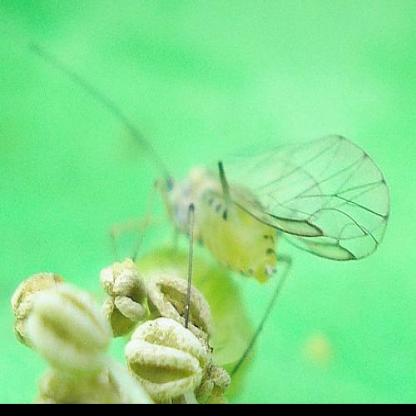aphid: (106, 103, 393, 324)
